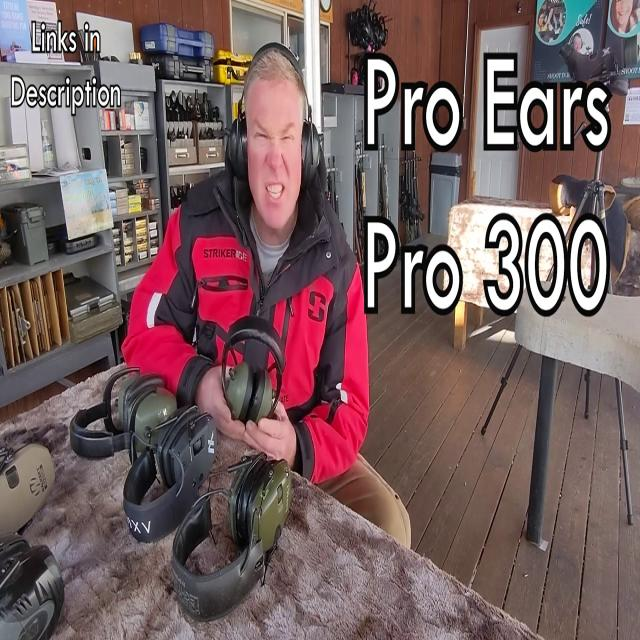earmuff: (221, 104, 252, 181), (223, 354, 255, 426), (299, 116, 325, 192), (250, 358, 274, 431)
